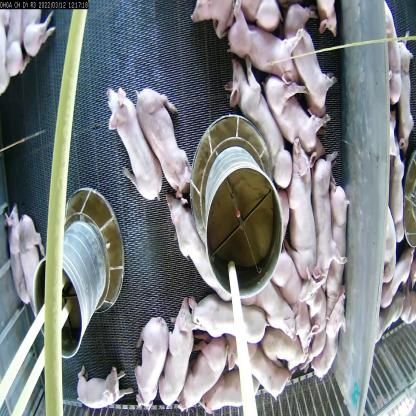Pig: (229, 50, 288, 199), (133, 70, 194, 200), (103, 82, 160, 207), (166, 189, 229, 296), (265, 235, 313, 354), (282, 144, 322, 285), (228, 12, 300, 79), (161, 298, 201, 415), (290, 5, 334, 101), (267, 76, 324, 147), (130, 310, 169, 411), (176, 332, 224, 411), (238, 276, 296, 341), (68, 357, 128, 415), (235, 342, 293, 401), (329, 187, 356, 305), (203, 365, 266, 415), (309, 154, 333, 283), (19, 207, 50, 306), (200, 296, 263, 340), (264, 326, 312, 381), (0, 200, 25, 296)
